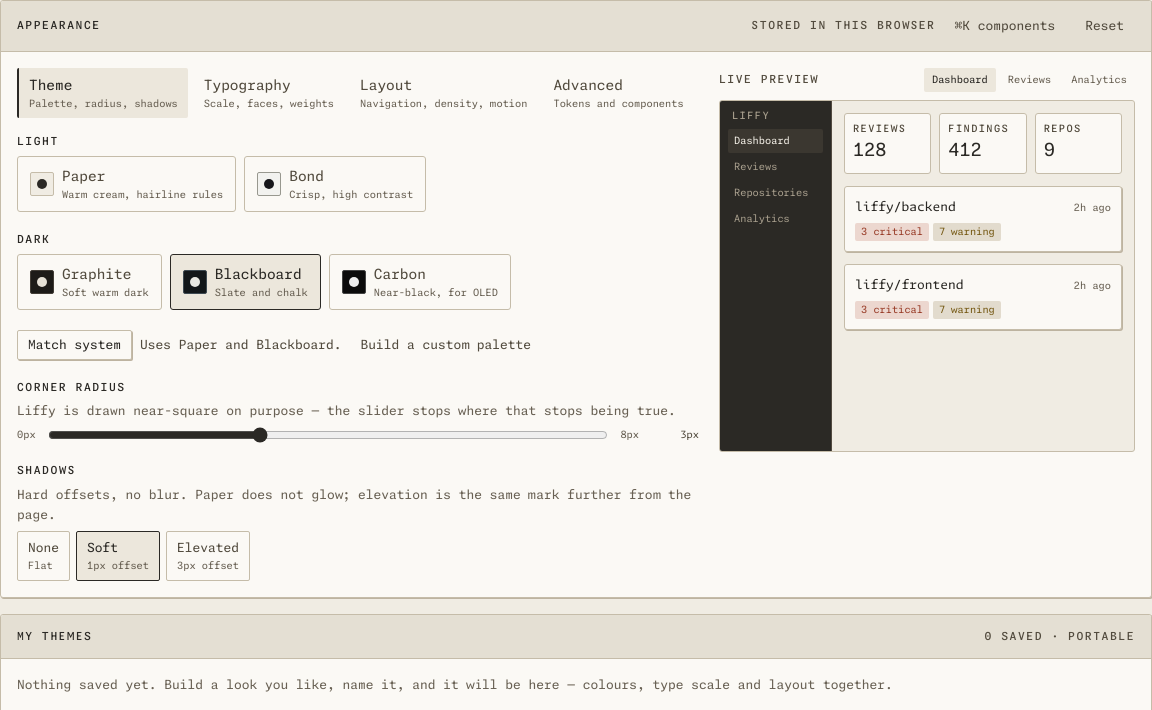
Test case: Appearance › shows a knob as following the theme until it is touched
This screenshot has width=1152, height=710.
Click the button "⌘K components" at (1005, 26), box [944,11,1066,41]
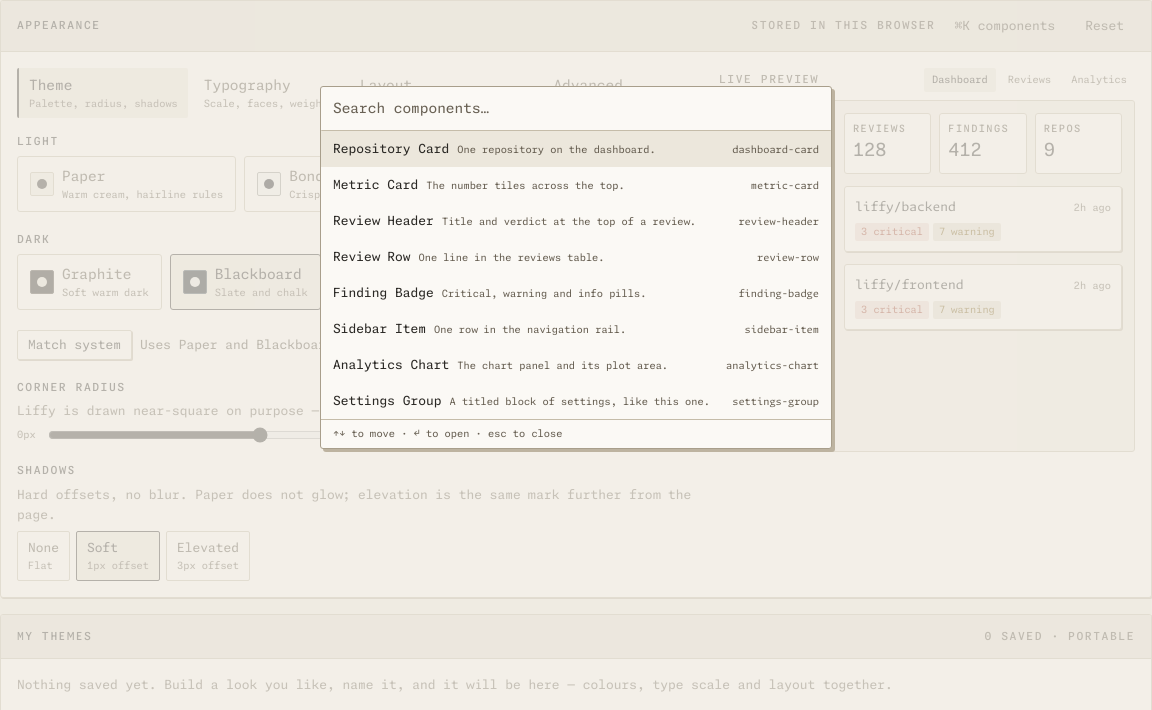
Type "sidebar" into the field labelled "Search components" at (576, 109), box [321,87,831,131]
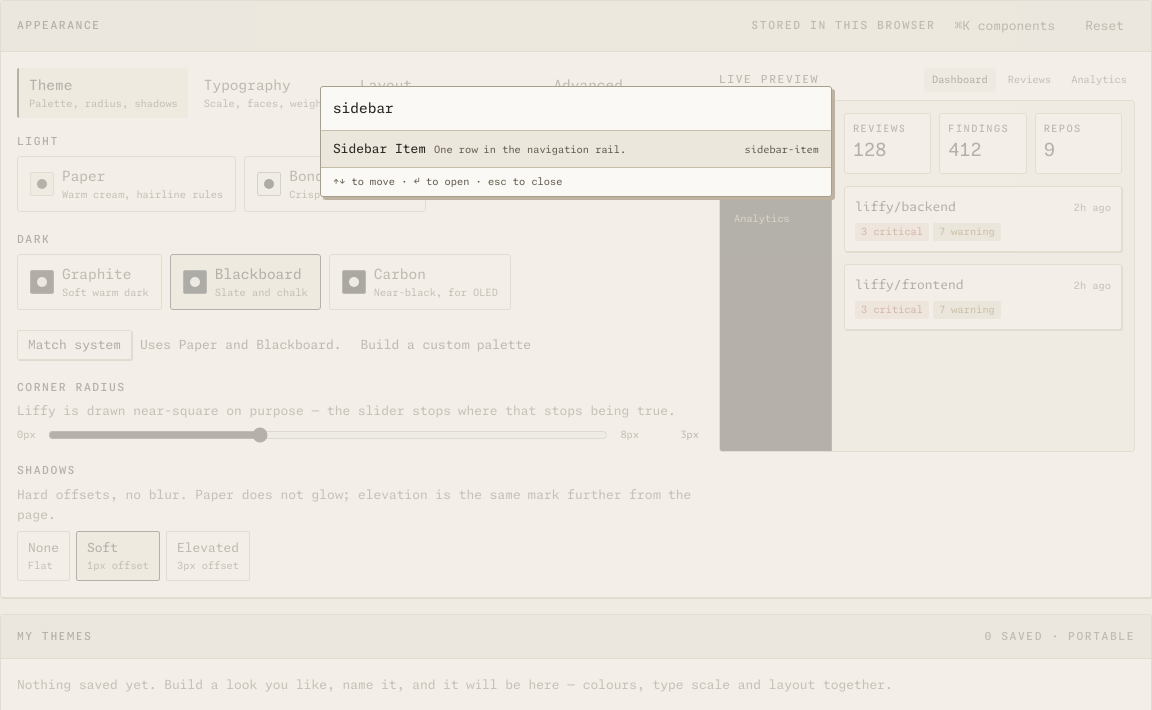
Press Enter
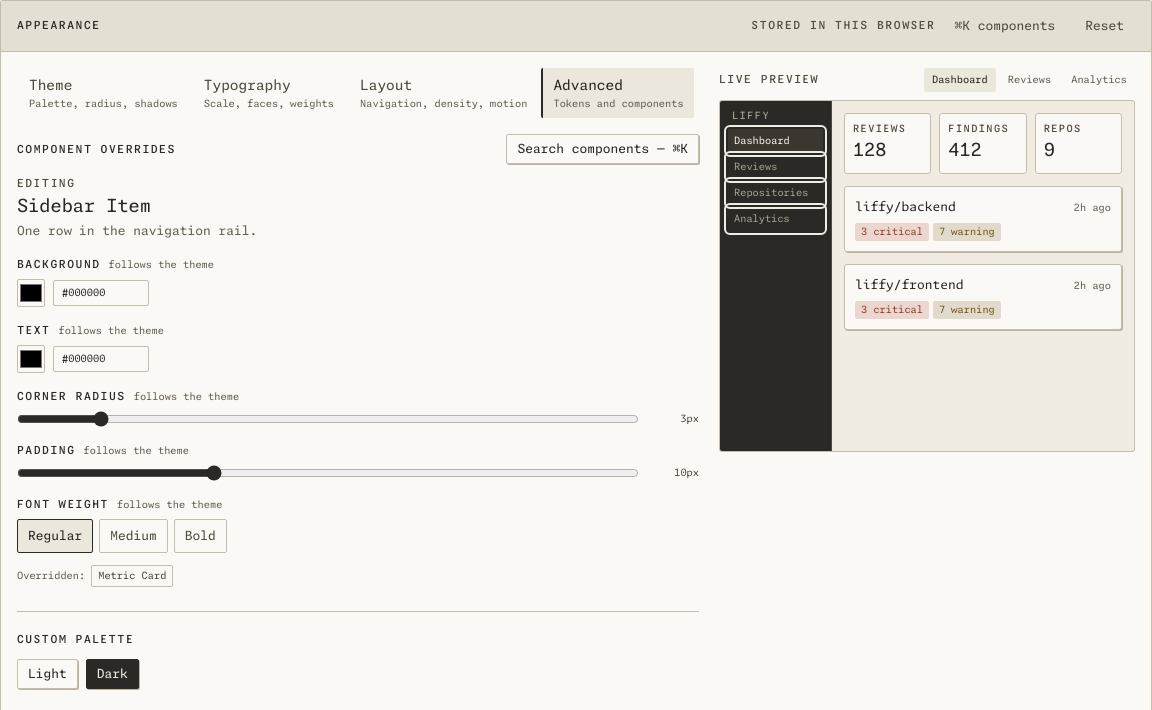
Result: the text "follows the theme" next to "Background" is shown at [109,259,214,270]
